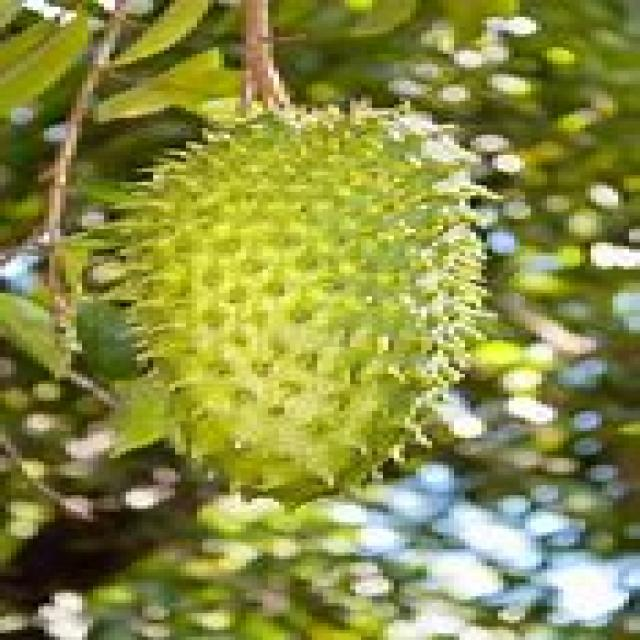immature: (94, 97, 502, 516)
